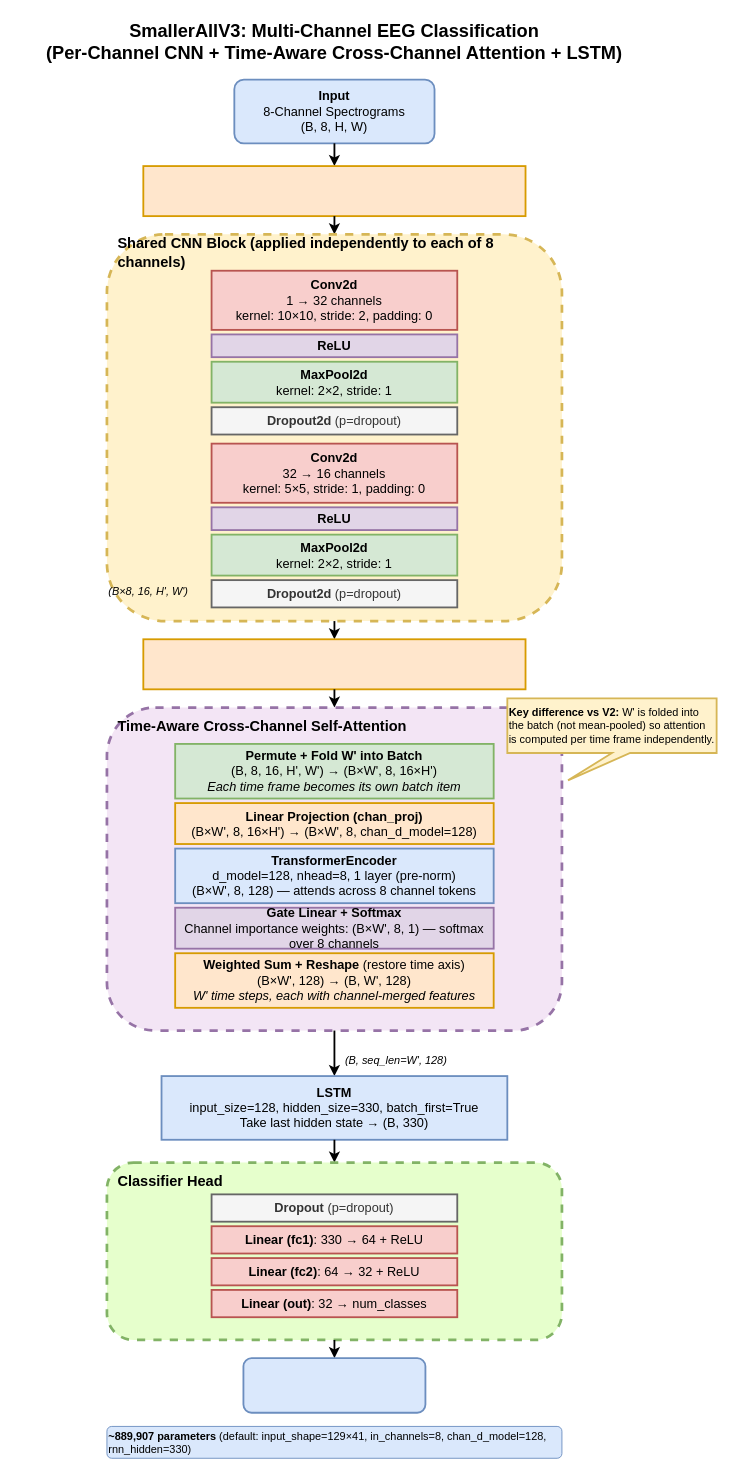
Some shapes in this 733 by 1474 pixel diagram are drawn without their labels. The shapes that lost their labels are listed below. From the top down, each one's box as (x1, y1, x2, y2) in pixels, then its label:
(142, 165, 526, 217): Reshape for Per-Channel Processing (B, 8, H, W) → (B×8, 1, H, W)
(142, 638, 526, 690): Reshape Back to Channel Dimension (B×8, 16, H', W') → (B, 8, 16, H', W')
(242, 1357, 426, 1413): Output Logits (B, num_classes)
